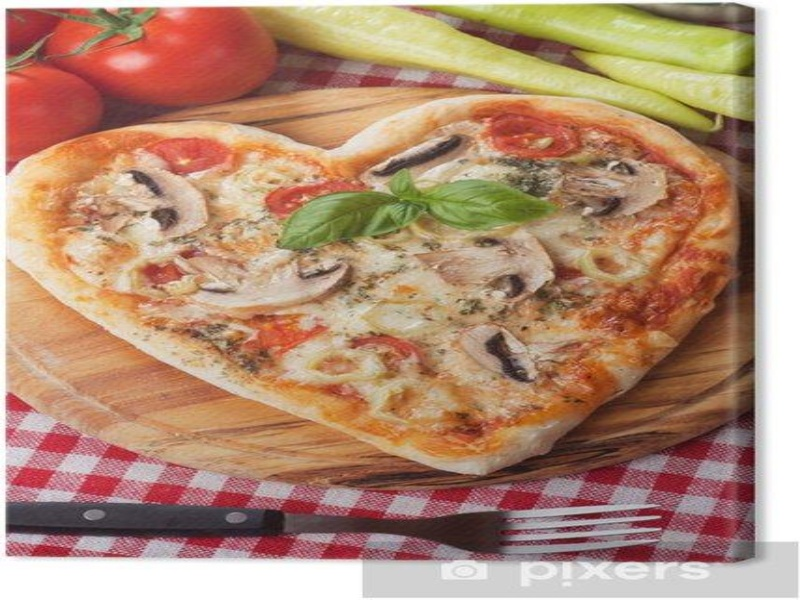champignon: (181, 246, 367, 323), (424, 227, 567, 309), (355, 128, 479, 202), (561, 156, 671, 229), (449, 315, 540, 403), (120, 165, 211, 245)
